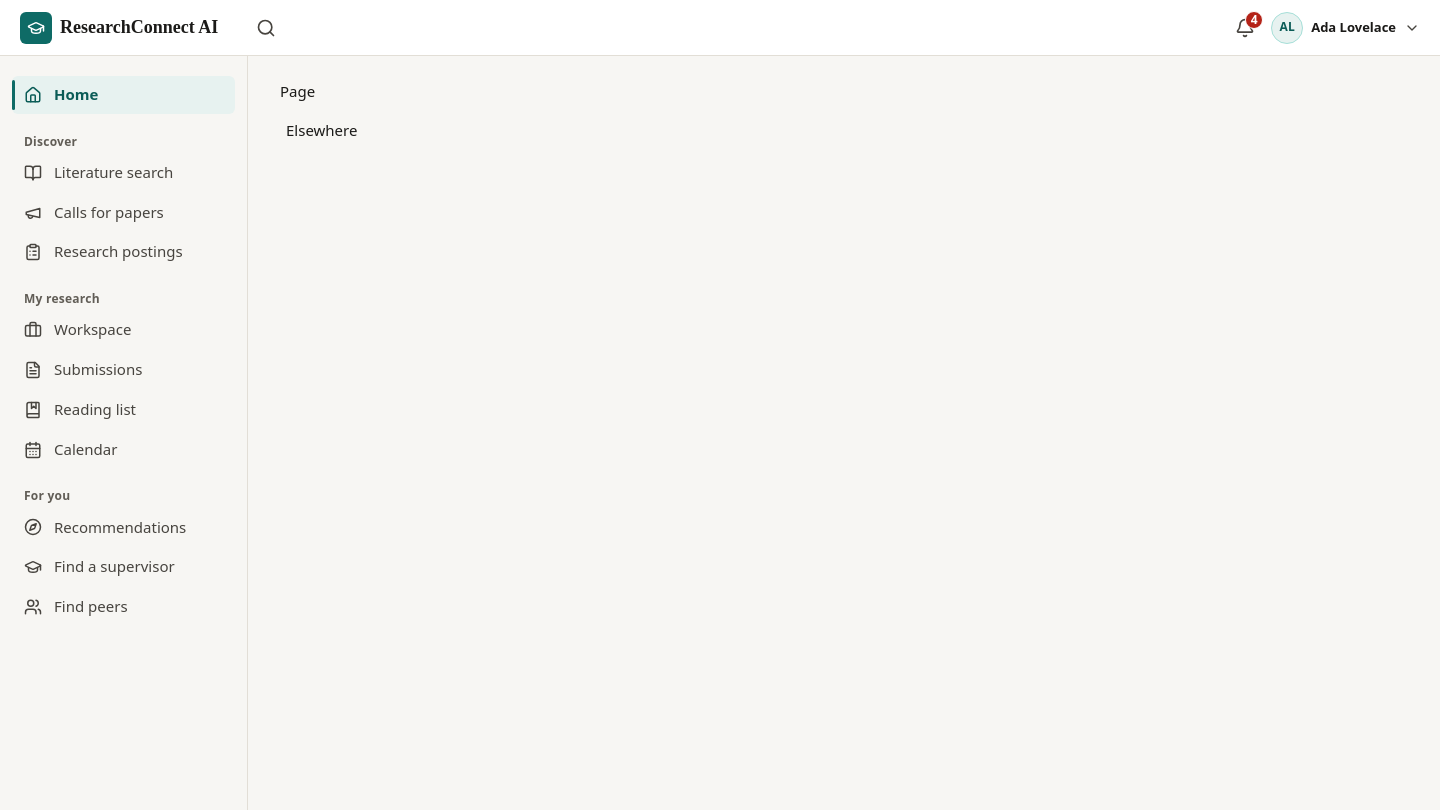
the bell's panel › shows the latest five grouped by source, each linking to where it leads
The width and height of the screenshot is (1440, 810).
Click the button named "Notifications, 4 unread".
click(1245, 28)  # box [1227,10,1263,46]
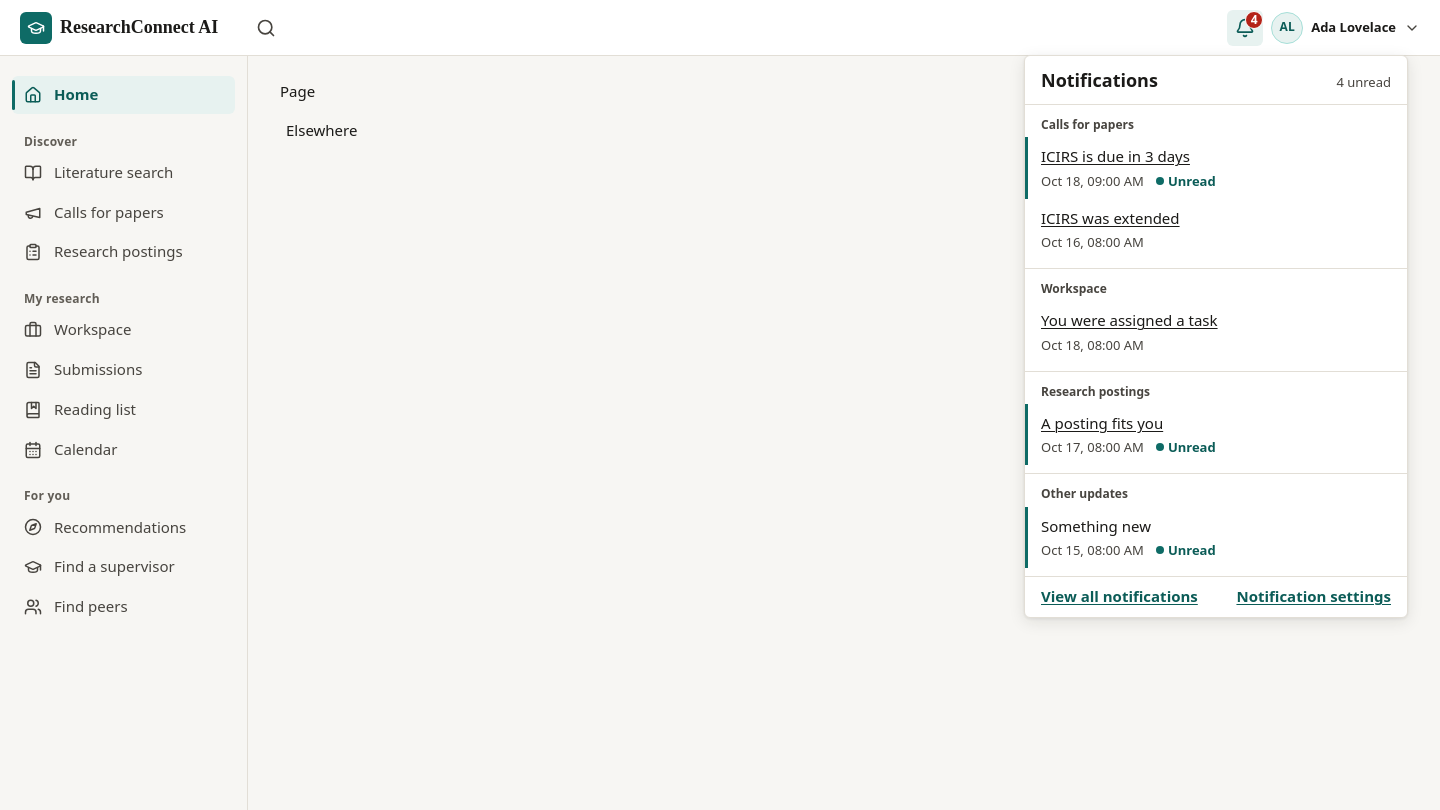
Now the headings read "Calls for papers", "Workspace", "Research postings", "Other updates", in this order, box [1041,116,1134,133]; [1041,280,1107,297]; [1041,383,1150,400]; [1041,485,1128,502]
Now the text "4 unread" is shown, box [1336,72,1391,92]
